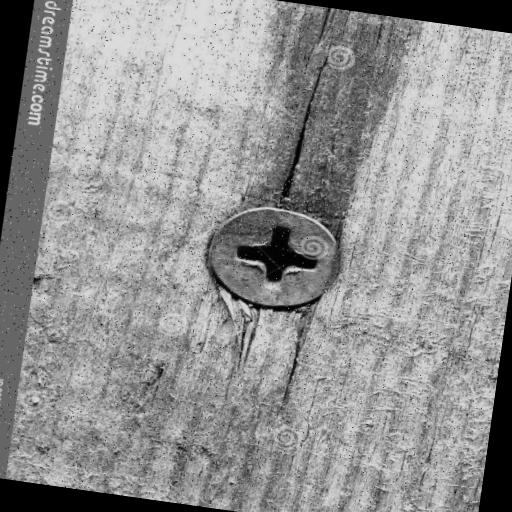Phillips: (190, 192, 353, 326)
